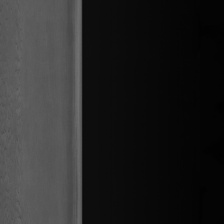silk_spot: (4, 20, 31, 183)
